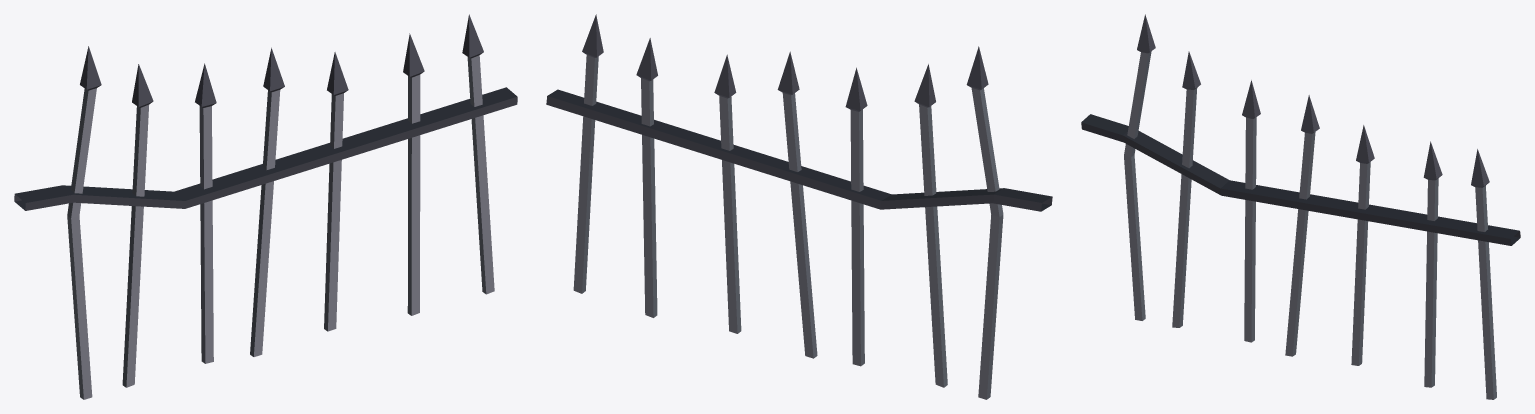
File: HWN20_IronfFence_03.gltf
3 views of the same model, side by side, from view 1: azimuth 30°, elevation 25°; view 2: azimuth 150°, elevation 25°; view 3: azimuth 330°, elevation 25° (orthographic). The views are drawn at different scales.
Visible parts, largest first — view 1: HWN20_IronfFence_03_glb; view 2: HWN20_IronfFence_03_glb; view 3: HWN20_IronfFence_03_glb.
Part boxes in pixels (x1,y1,x2,y2): HWN20_IronfFence_03_glb: (14, 14, 517, 399); HWN20_IronfFence_03_glb: (546, 14, 1052, 399); HWN20_IronfFence_03_glb: (1081, 14, 1520, 399).
Size of what is drawn, in the model's own units: 4.04 by 2.74 by 0.1608.
Materials: 1 (1 with a texture image).
